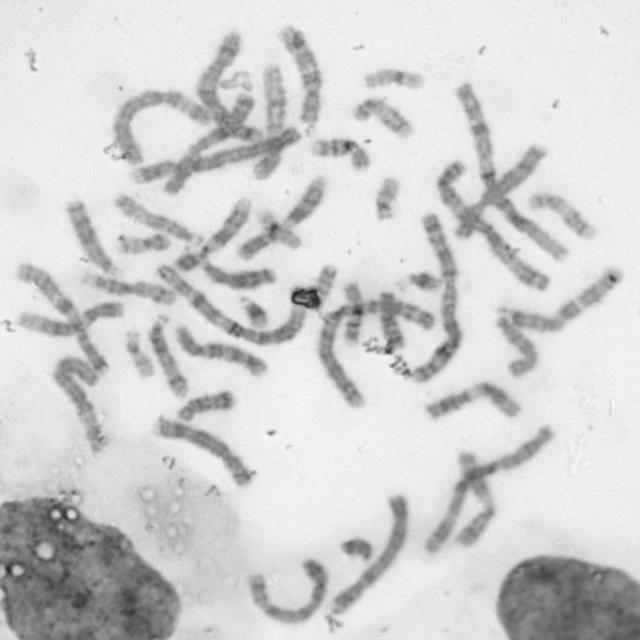A1: (454, 81, 570, 263), (156, 263, 308, 346)
A2: (316, 298, 436, 408), (409, 211, 464, 384)
A3: (424, 423, 556, 554), (435, 160, 551, 291)
B4: (128, 125, 304, 185), (326, 492, 410, 616)
B5: (195, 31, 265, 144), (246, 557, 329, 624)
C10: (174, 323, 268, 377), (276, 24, 324, 124)
C11: (451, 447, 496, 547), (424, 379, 523, 420)
C12: (251, 65, 288, 182), (19, 301, 126, 336)
C6: (114, 89, 262, 165), (52, 354, 110, 452)
C7: (16, 262, 109, 376), (497, 266, 625, 332)
C8: (454, 143, 547, 238), (152, 416, 251, 488)
C9: (237, 174, 328, 258), (173, 197, 253, 272)
D13: (64, 198, 120, 277), (195, 255, 275, 290)
D14: (147, 314, 190, 399), (80, 269, 176, 307)
D15: (112, 191, 205, 247), (495, 309, 539, 377)
E16: (309, 137, 371, 171), (341, 280, 364, 348)
E17: (527, 191, 597, 241), (352, 96, 414, 139)
E18: (176, 389, 236, 422), (378, 289, 404, 349)
F19: (253, 207, 303, 250), (363, 67, 426, 91)
F20: (116, 232, 172, 255), (310, 264, 338, 310)
G21: (393, 269, 444, 294), (238, 294, 268, 328)
G22: (124, 330, 154, 378), (374, 177, 401, 221)
X: (162, 91, 256, 196)
Y: (339, 537, 374, 562)
